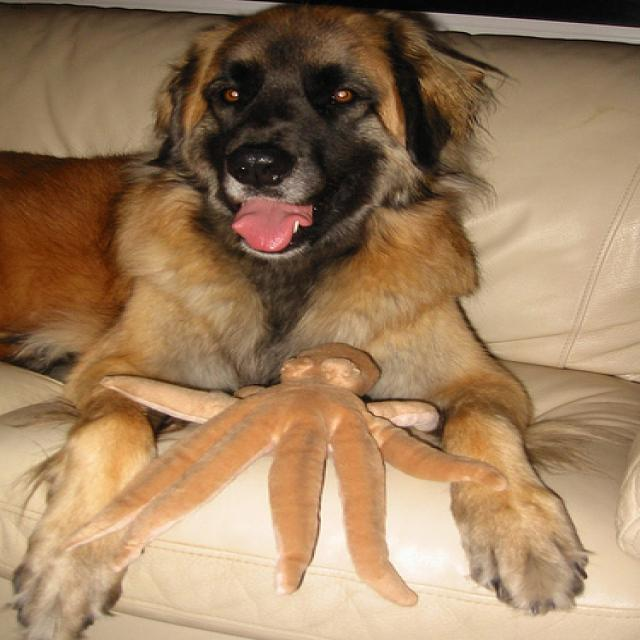dog-leonberger: (2, 1, 601, 637)
